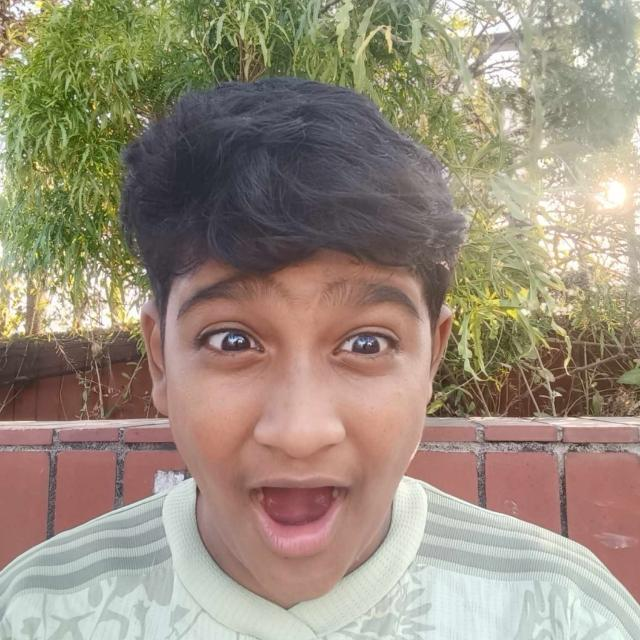Surprised: (126, 125, 457, 616)
